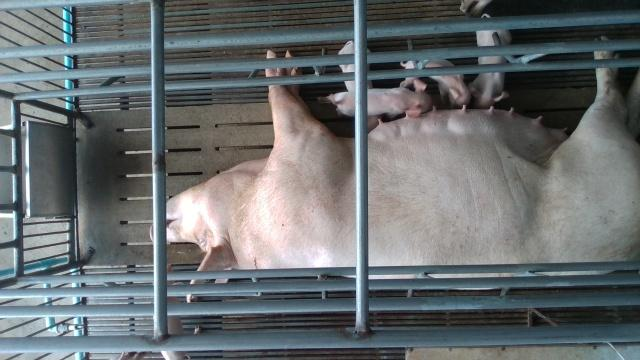piglet: (316, 78, 436, 118), (338, 40, 382, 132), (161, 263, 202, 360), (399, 58, 472, 110), (473, 12, 512, 107)
sow-sleep-lactate: (165, 50, 639, 302)
